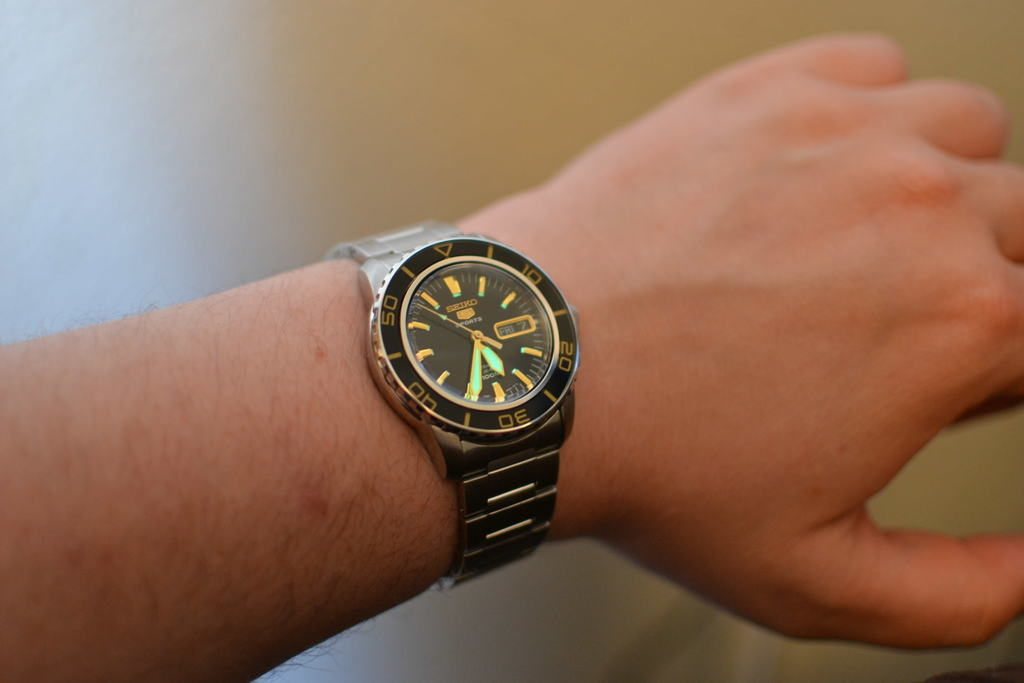watch: (314, 217, 588, 588)
